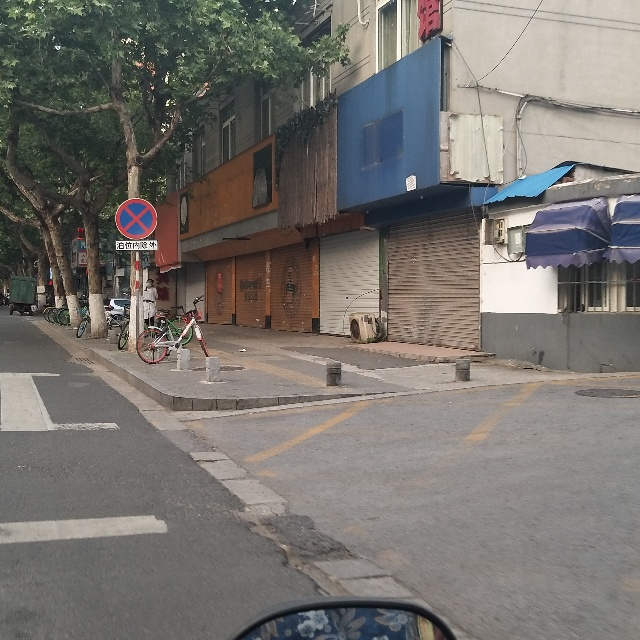stop: (113, 196, 156, 244)
